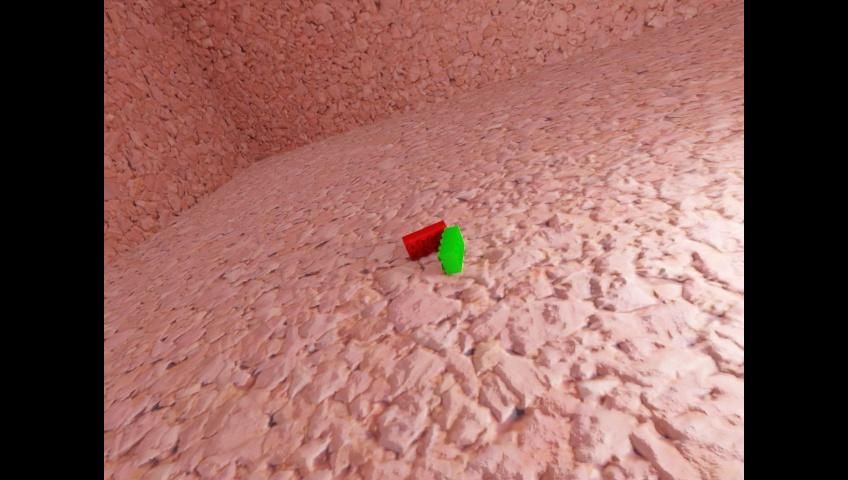4x2_green: (438, 225, 465, 275)
4x2_red: (401, 219, 446, 260)
